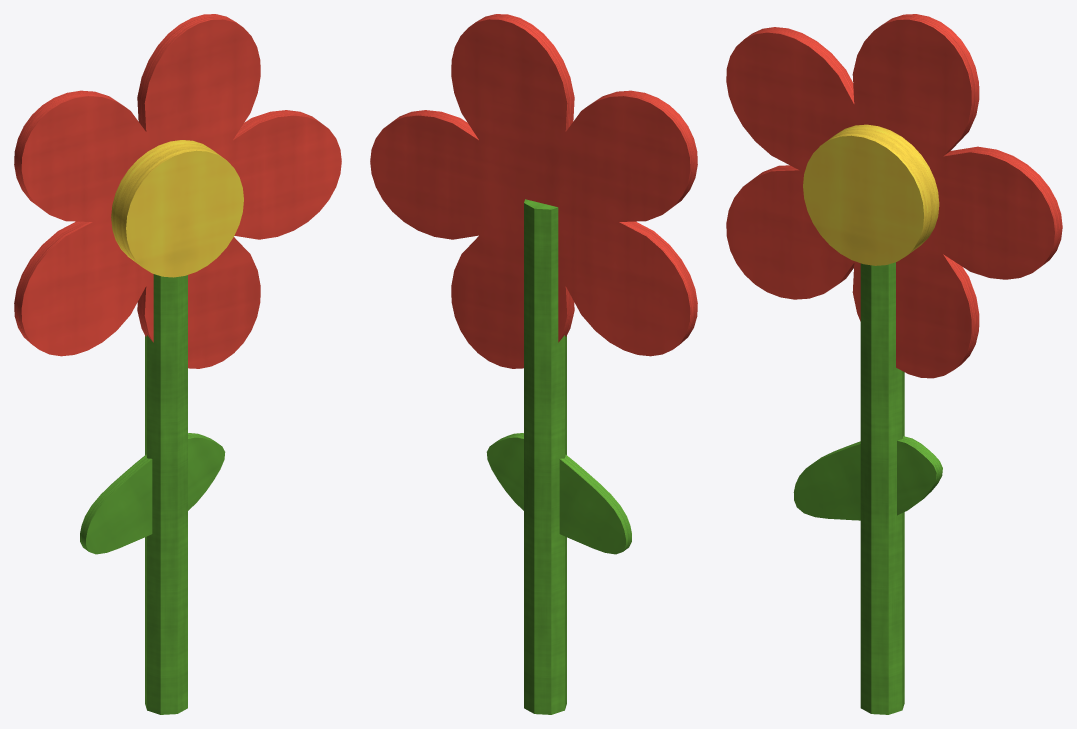
The model's file is flower_red.gltf.
The picture shows the model from 3 angles, left to right: view 1: azimuth 30°, elevation 25°; view 2: azimuth 150°, elevation 25°; view 3: azimuth 330°, elevation 25°; orthographic projection. The views are drawn at different scales.
Visible parts, largest first — view 1: flower_red; view 2: flower_red; view 3: flower_red.
Part boxes in pixels (x1,y1,x2,y2): flower_red: [14, 14, 341, 714]; flower_red: [370, 14, 697, 714]; flower_red: [726, 14, 1062, 714].
Bounding box in the file's own units: 0.2985 × 0.6043 × 0.048.
3 materials, 3 textured.
